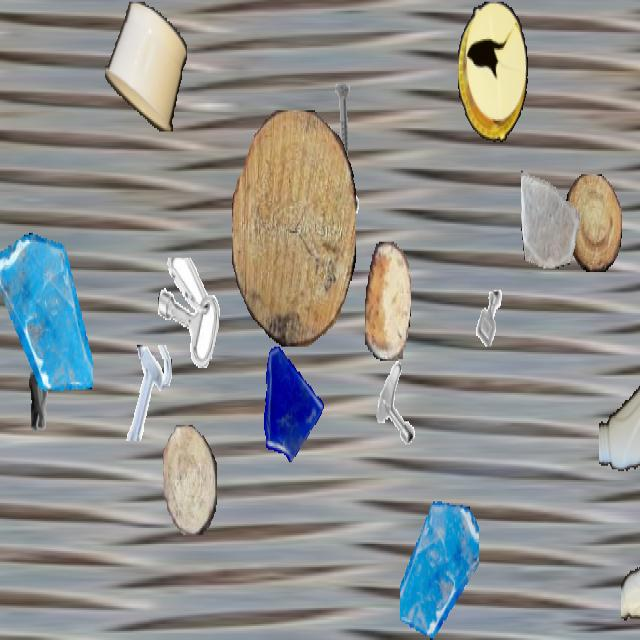glass: (0, 231, 93, 398), (400, 500, 478, 638), (254, 336, 324, 460), (521, 164, 579, 266)
metal: (307, 176, 369, 286), (158, 258, 220, 368), (120, 345, 174, 441), (370, 356, 424, 452), (14, 359, 64, 448), (319, 80, 367, 165), (468, 279, 512, 357)
plastic: (105, 2, 187, 130), (458, 2, 528, 140), (599, 313, 640, 498), (621, 457, 640, 638)
wood: (232, 110, 356, 345), (163, 425, 217, 535), (365, 242, 411, 359), (565, 174, 621, 270)
